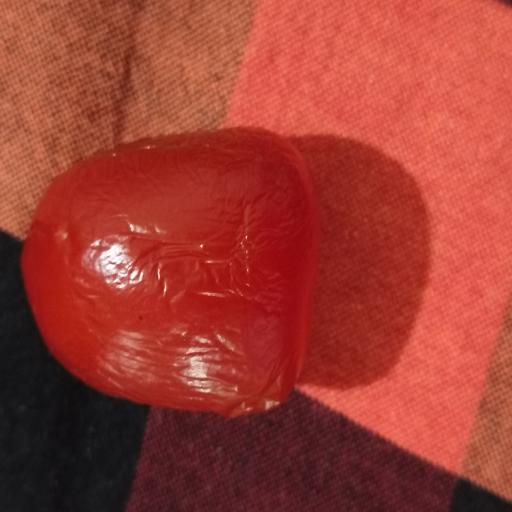spoiled: (22, 129, 318, 415)
